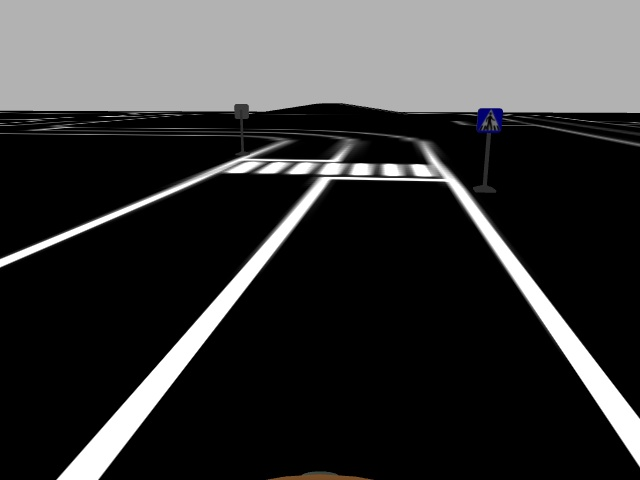crosswalk: (474, 104, 507, 135)
